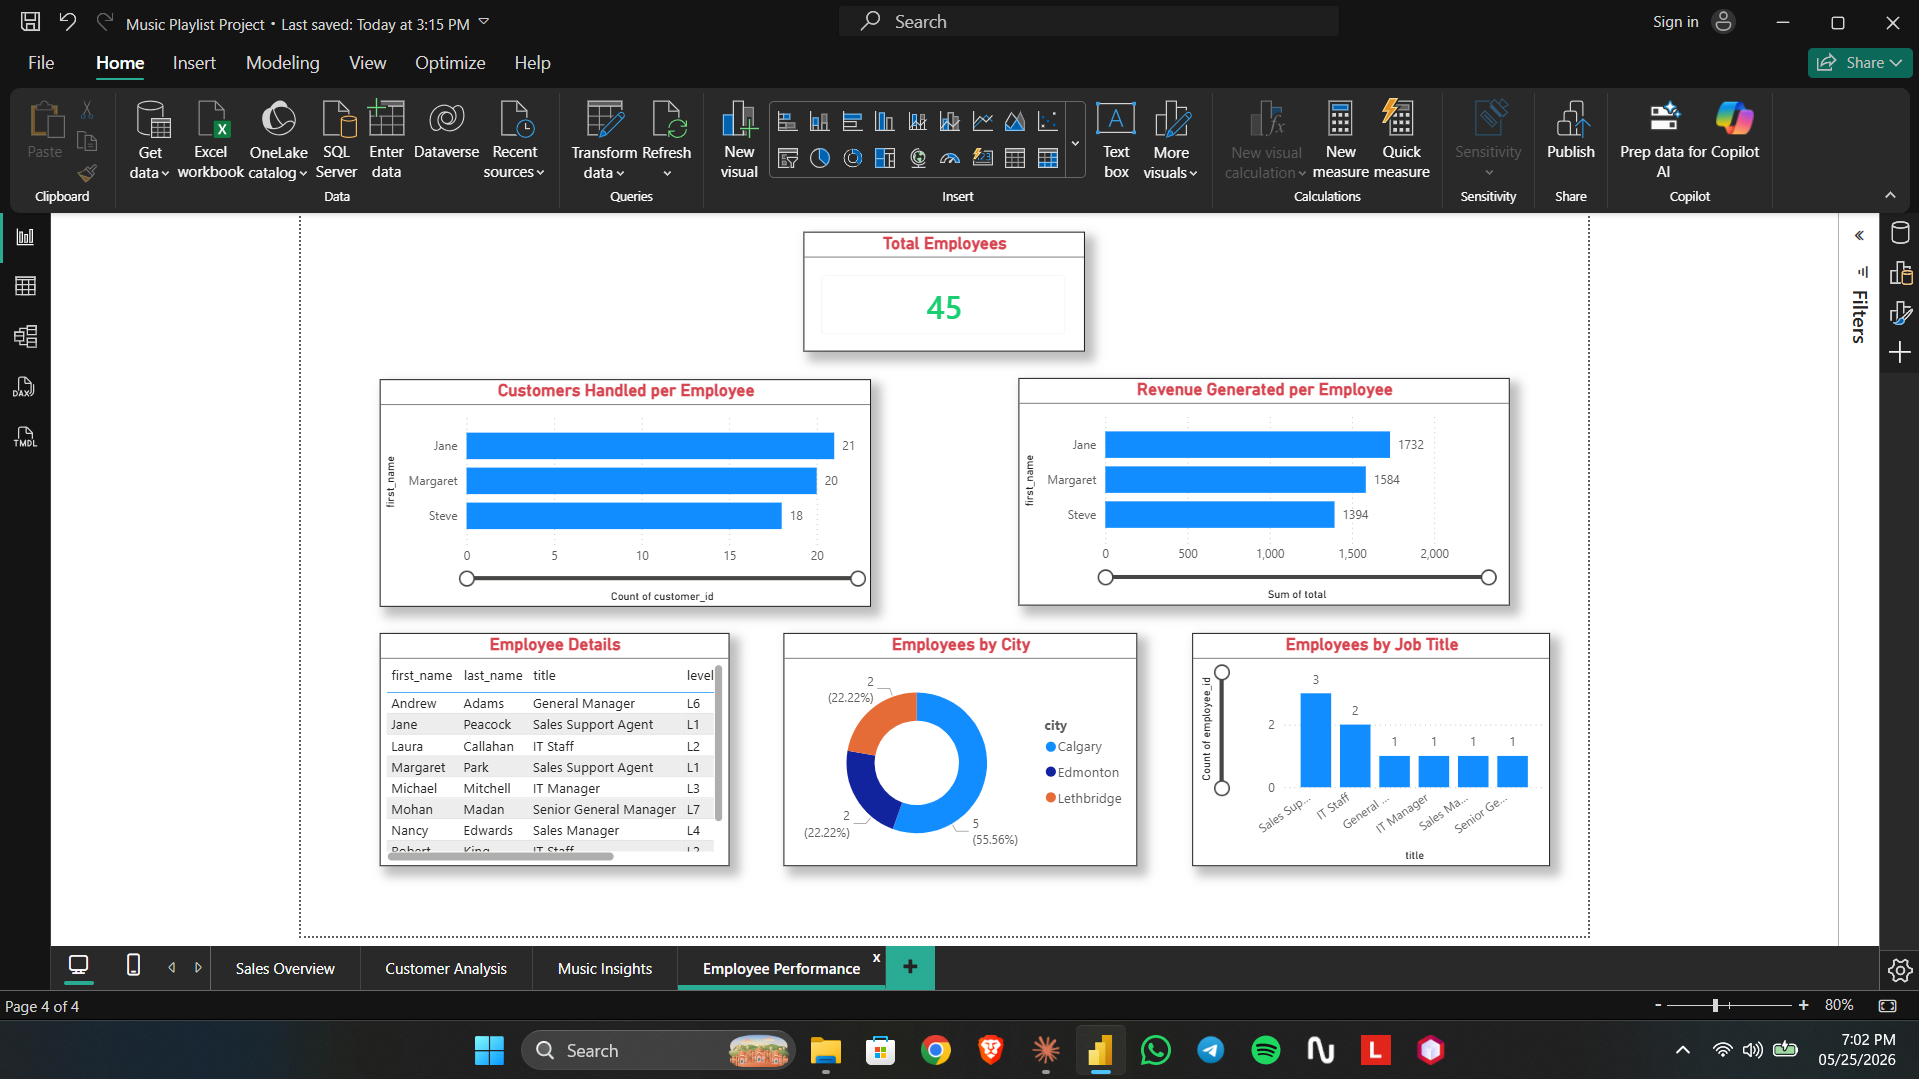

What the dashboard file says about the page in this screenshot:
{"tool":"powerbi","page":{"name":"Employee Performance","canvas":[1280,720],"ordinal":3},"visuals":[{"type":"cardVisual","title":"Total Employees","fields":{"Data":["Sum(employee.employee_id)"]},"box":[500.1,18.7,279.9,119.4],"z":0},{"type":"clusteredBarChart","title":"Customers Handled per Employee","fields":{"Category":["employee.first_name"],"Y":["CountNonNull(customers.customer_id)"]},"box":[77.9,165.9,489.1,226.5],"z":1000},{"type":"barChart","title":"Revenue Generated per Employee","fields":{"Category":["employee.first_name"],"Y":["Sum(invoice.total)"]},"box":[714.2,164.5,489.1,226.5],"z":2000},{"type":"tableEx","title":"Employee Details","fields":{"Values":["employee.first_name","employee.last_name","employee.title","employee.levels","employee.city","employee.country"]},"box":[77.9,418.4,347.7,232.3],"z":3000},{"type":"donutChart","title":"Employees by City","fields":{"Category":["employee.city"],"Y":["CountNonNull(employee.employee_id)"]},"box":[480.4,418.4,352,232.3],"z":3001},{"type":"clusteredColumnChart","title":"Employees by Job Title","fields":{"Category":["employee.title"],"Y":["CountNonNull(employee.employee_id)"]},"box":[887.3,418.4,356.4,232.3],"z":3002}]}

Visuals, with their boxes on the page's 1280x720 design canvas (x1, y1, x2, y2). These are canvas units, not pixel positions in the 1919x1079 screenshot, which may show the page scaled, cropped or inside an application window:
"Total Employees" cardVisual: region(500, 19, 780, 138)
"Customers Handled per Employee" clusteredBarChart: region(78, 166, 567, 392)
"Revenue Generated per Employee" barChart: region(714, 164, 1203, 391)
"Employee Details" tableEx: region(78, 418, 426, 651)
"Employees by City" donutChart: region(480, 418, 832, 651)
"Employees by Job Title" clusteredColumnChart: region(887, 418, 1244, 651)
